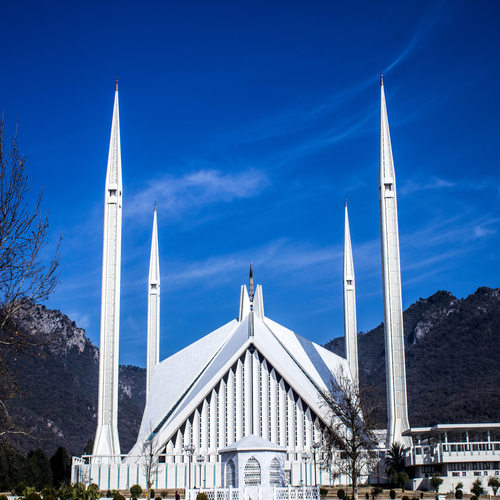Mosque: (84, 66, 420, 489)
